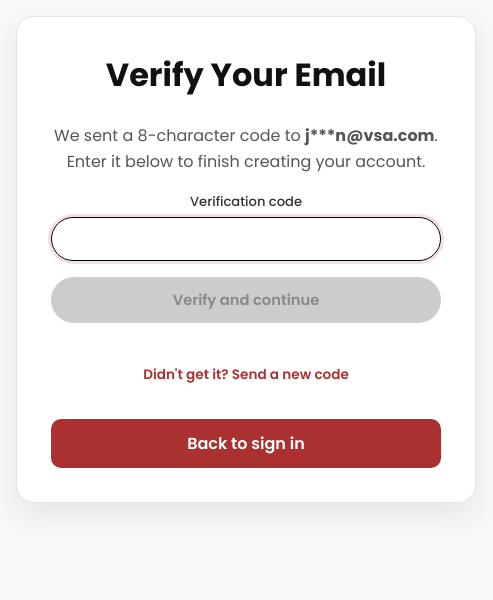
Test: VerifyEmailPage › does not sign in or navigate when the response is missing a token
Type "ABCDEFGH" into the field labelled "Verification code" at (246, 239), box [51,217,441,261]
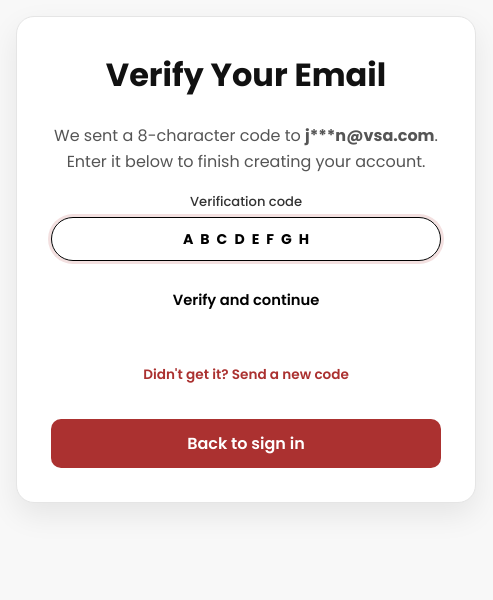
Click the button "Verify and continue" at (246, 300), box [51,278,441,324]
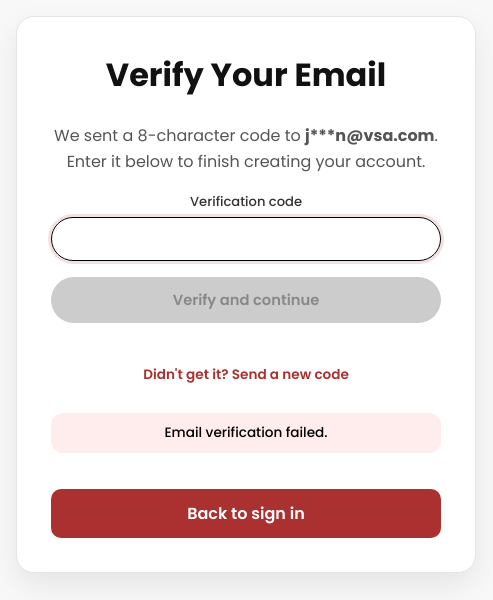
Check: the text "Email verification failed." is shown, box [51,414,441,454]
